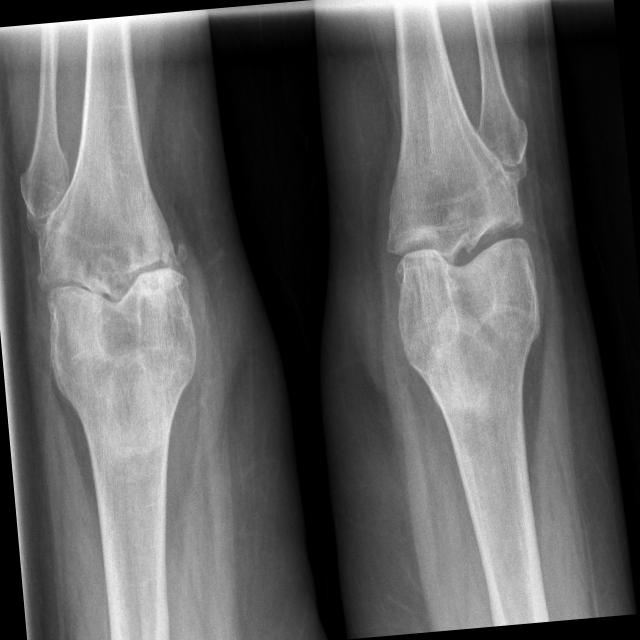Knee: (31, 212, 199, 374), (376, 182, 540, 336)
